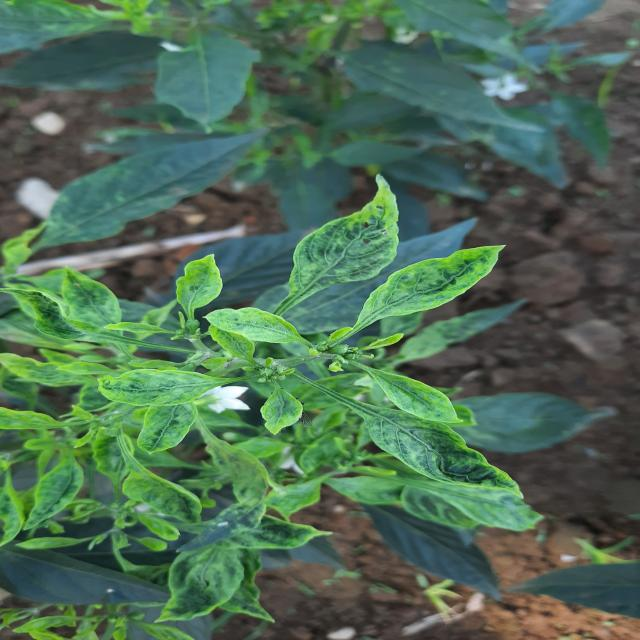thrips: (345, 394, 542, 495), (280, 172, 404, 294), (350, 242, 513, 330), (85, 364, 244, 414), (367, 360, 476, 430), (88, 362, 239, 408), (154, 244, 228, 314), (203, 306, 303, 342)
